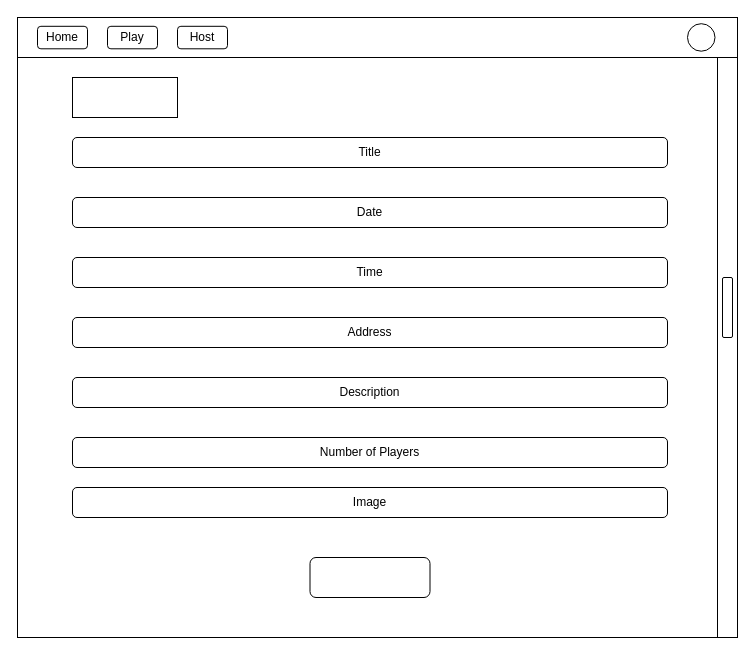
Some shapes in this 755 by 655 pixel diagram are drawn without their labels. Here are the shapes that lost their labels. From the top down, the centre of each, then its label:
point 700,37: login
point 125,97: Create Event
point 369,577: Submit
